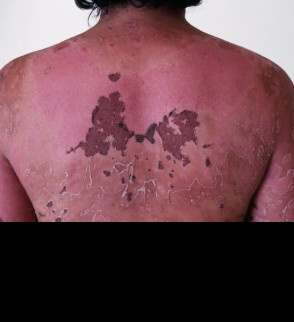SJS-TEN: (0, 2, 294, 221)
